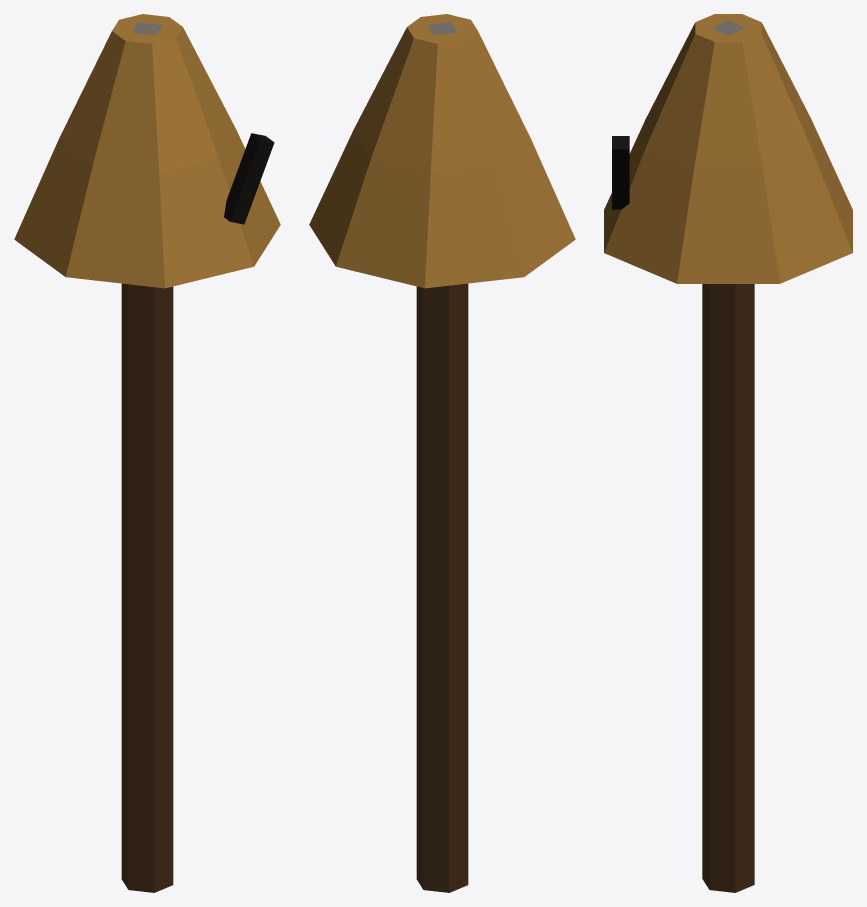
File: gear_bell.glb
The picture shows the model from 3 angles, left to right: view 1: azimuth 30°, elevation 25°; view 2: azimuth 150°, elevation 25°; view 3: azimuth 270°, elevation 25°; orthographic projection.
Parts seen in each view (by area): view 1: gear_bell; view 2: gear_bell; view 3: gear_bell.
Boxes of the visible parts, box(x1,y1,x2,y2) form: gear_bell: box(14, 14, 280, 892); gear_bell: box(309, 14, 575, 892); gear_bell: box(604, 14, 852, 892).
Size of the model in its own units: 0.1663 by 0.63 by 0.1663.
